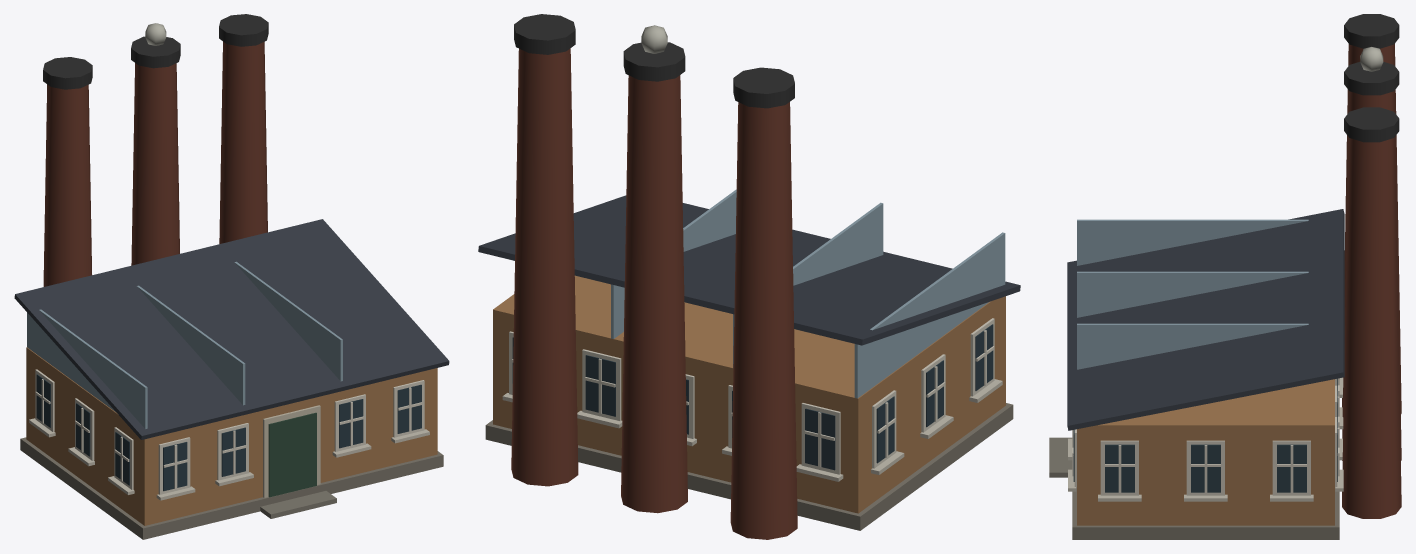
File: procedural_steelworks@6.glb
3 views of the same model, side by side, from view 1: azimuth 30°, elevation 25°; view 2: azimuth 150°, elevation 25°; view 3: azimuth 270°, elevation 25° (orthographic). The views are drawn at different scales.
Visible parts, largest first — view 1: part_0; view 2: part_0, part_4; view 3: part_0, part_4.
Part boxes in pixels (box(x1,y1,x2,y2)): part_0: box(14, 14, 449, 539); part_0: box(478, 14, 1020, 539); part_4: box(641, 25, 667, 53); part_0: box(1049, 14, 1401, 539); part_4: box(1360, 46, 1383, 71).
Bounding box in the file's own units: 8.4 × 9.89 × 7.65.
